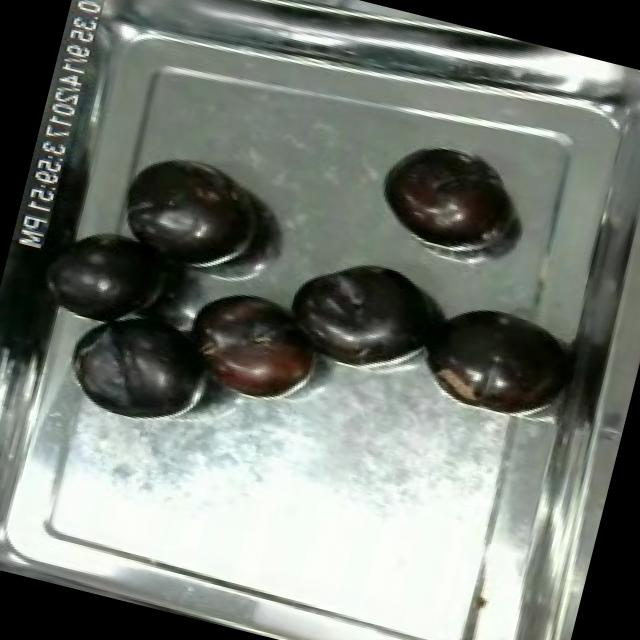Fruit: (102, 132, 280, 286), (56, 292, 226, 440), (270, 238, 444, 380), (169, 272, 338, 418), (412, 290, 582, 428), (366, 132, 520, 260)
